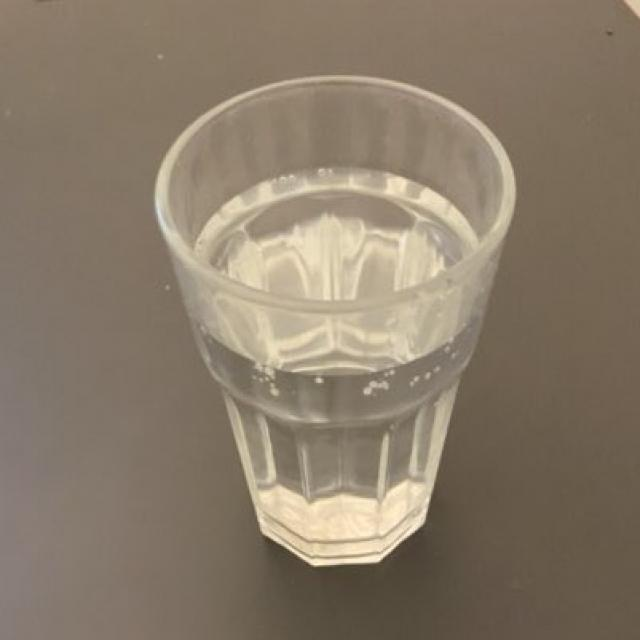water: (184, 178, 498, 554)
